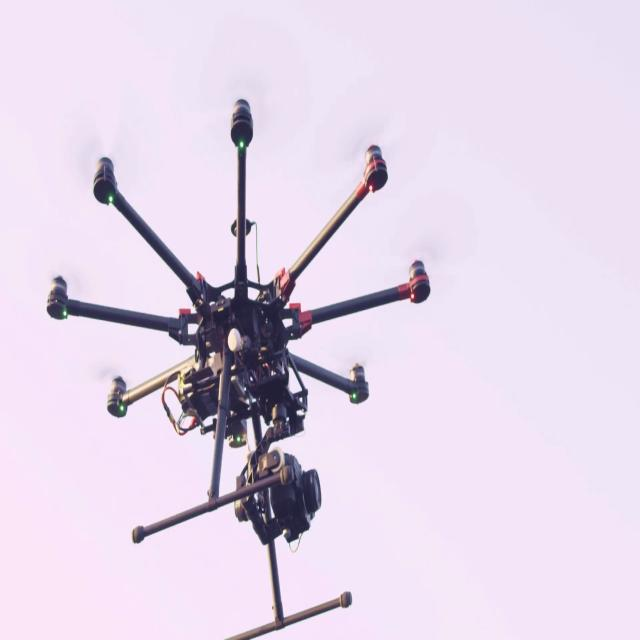drone: (39, 107, 432, 637)
